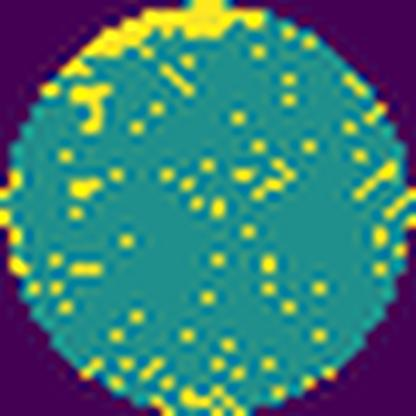Edge-Loc: (57, 0, 267, 79)
